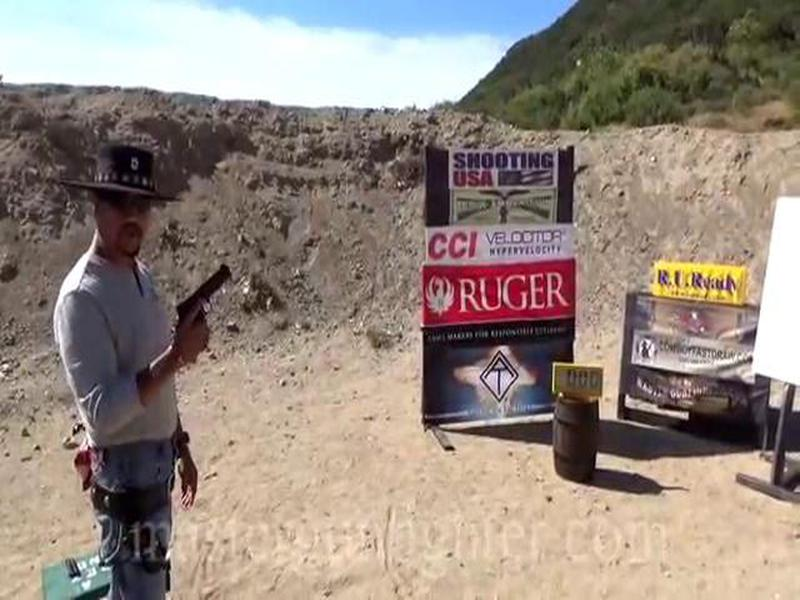Pistola: (167, 263, 242, 363)
